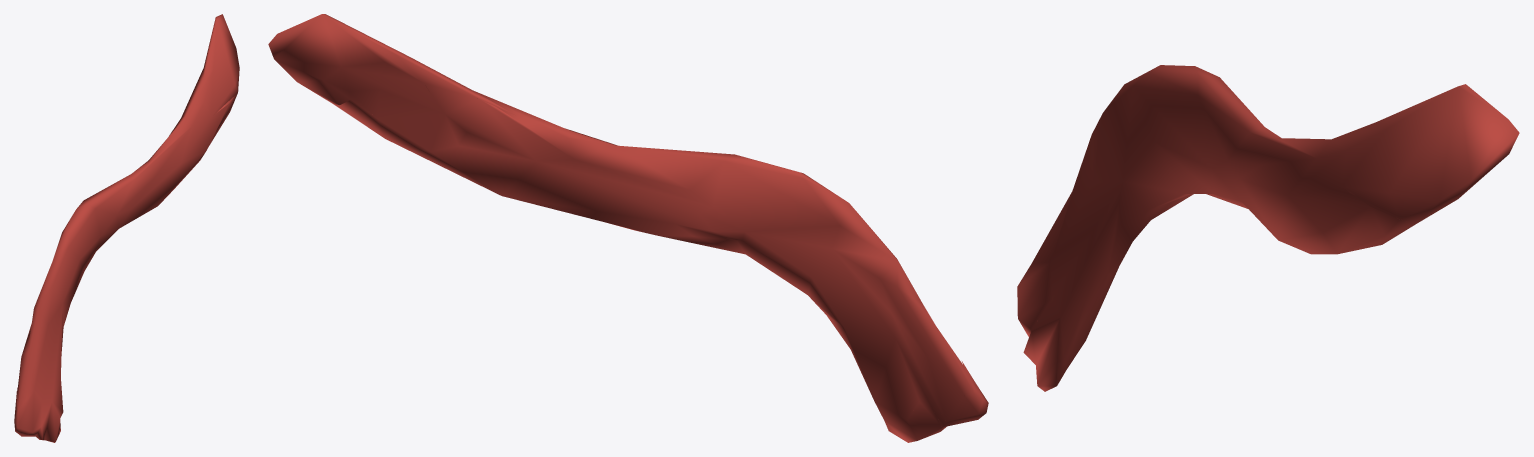
Rendered from musculos-zygomaticus-minor-muscle-l.glb.
3 renders of one model, left to right at view 1: azimuth 30°, elevation 25°; view 2: azimuth 150°, elevation 25°; view 3: azimuth 270°, elevation 25°, orthographic. The views are drawn at different scales.
Visible parts, largest first — view 1: Zygomaticus minor muscle.l; view 2: Zygomaticus minor muscle.l; view 3: Zygomaticus minor muscle.l.
Part boxes in pixels (x1,y1,x2,y2): Zygomaticus minor muscle.l: (14,14,239,442); Zygomaticus minor muscle.l: (268,14,988,442); Zygomaticus minor muscle.l: (1017,65,1519,391).
Bounding box in the file's own units: 0.0376 × 0.0306 × 0.0246.
